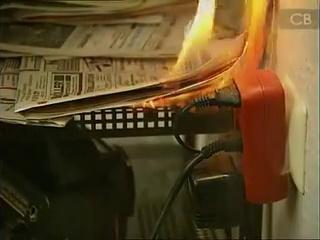Fire: (131, 0, 270, 112)
